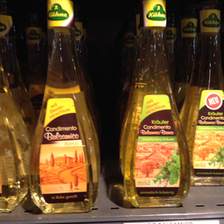vinegar: (25, 1, 107, 215), (118, 1, 192, 208), (184, 9, 224, 187)
